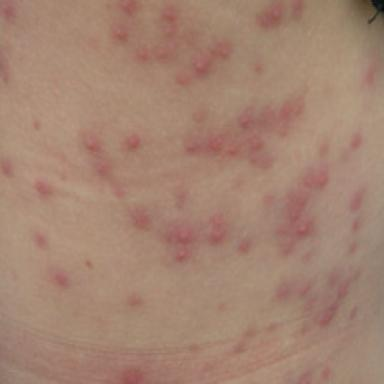acne: (186, 96, 305, 167), (274, 266, 360, 325), (277, 165, 328, 255), (192, 40, 231, 75), (95, 158, 125, 198), (349, 187, 366, 234), (258, 2, 283, 28), (232, 327, 255, 353), (209, 214, 227, 244), (169, 224, 193, 246), (130, 207, 151, 229), (173, 182, 187, 210), (35, 177, 54, 197), (122, 367, 145, 383), (50, 270, 70, 288), (363, 63, 379, 85), (124, 133, 141, 151), (85, 135, 101, 152), (34, 229, 47, 249), (0, 158, 13, 177), (292, 0, 304, 19), (175, 71, 191, 85), (175, 247, 189, 262), (238, 236, 251, 252), (127, 295, 144, 307), (193, 109, 207, 123), (319, 140, 329, 157), (351, 132, 361, 148), (253, 61, 263, 73), (350, 242, 357, 251)
